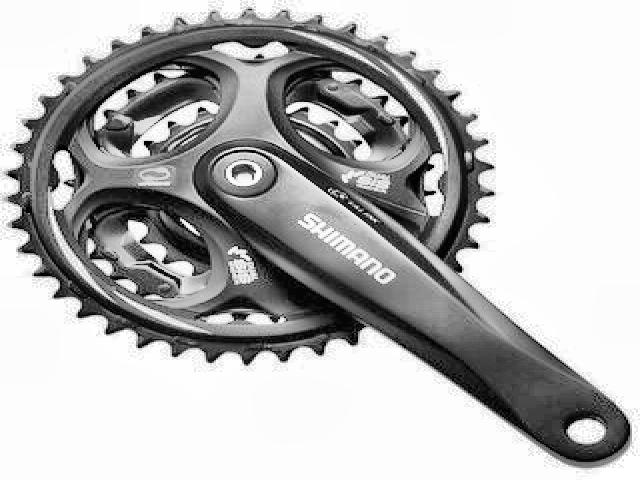cranks_set: (3, 5, 634, 472)
